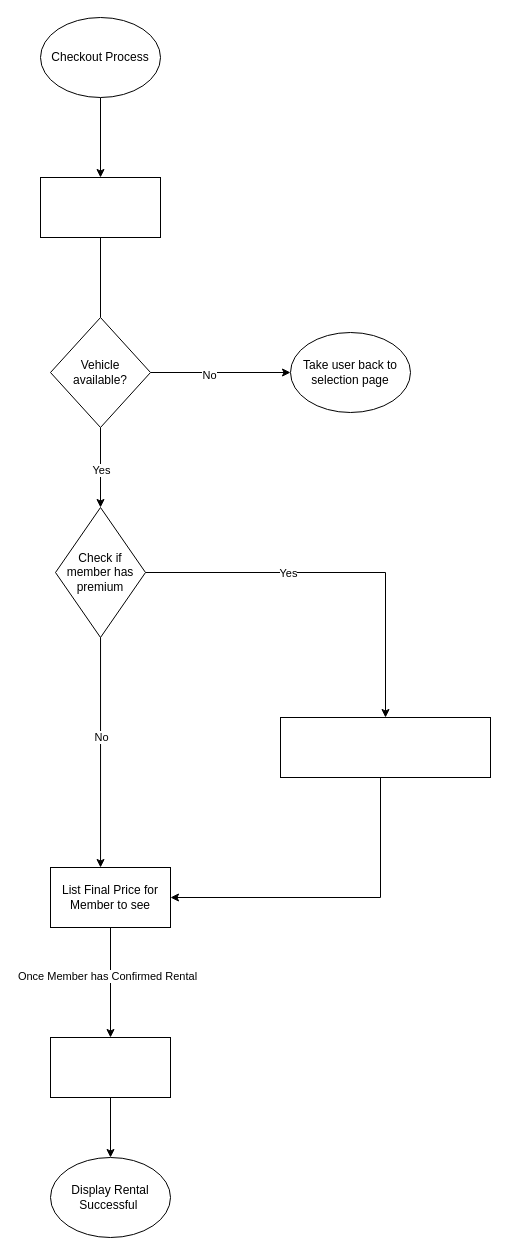
Some shapes in this 508 by 1255 pixel diagram are drawn without their labels. The centre of each missing label's shape, as x and y in pixels:
"Check if selected vehicle(s) are available" goes at (100,207).
"Mark Vehicle as Unavailable to Rent" goes at (110,1067).
"Rental Charge total - (Rental Charge Total * 10%)" goes at (385,747).
